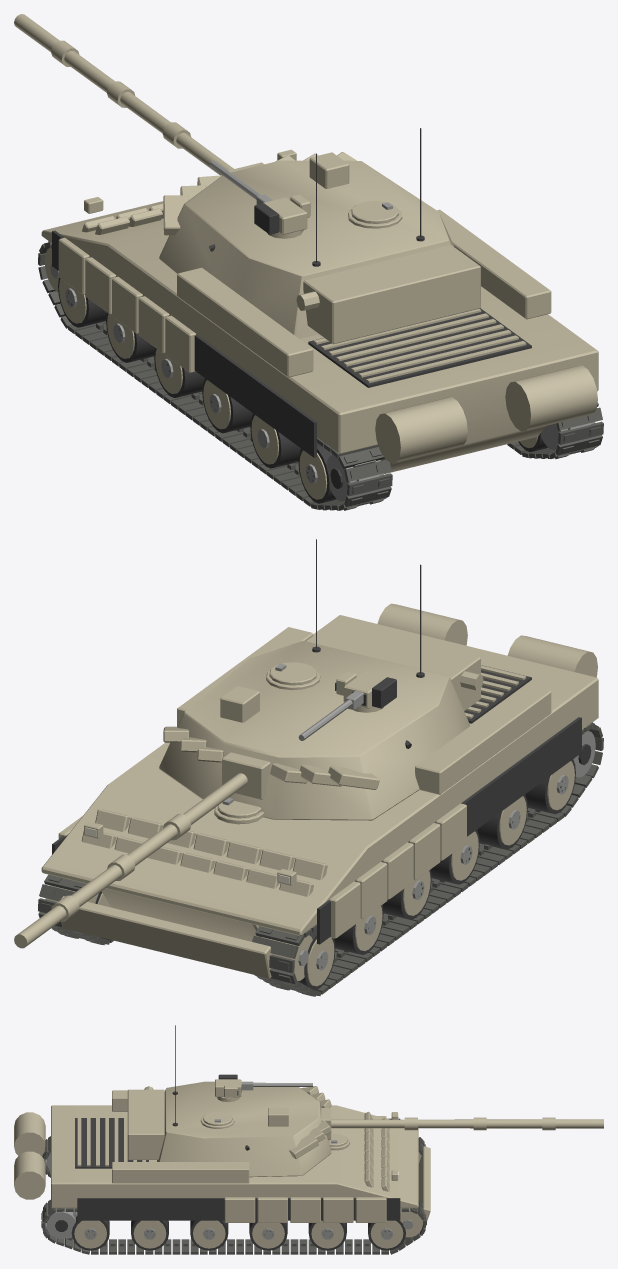
Rendered from rus_mbt_90m.glb.
3 renders of one model, top to bottom at view 1: azimuth 30°, elevation 25°; view 2: azimuth 150°, elevation 25°; view 3: azimuth 270°, elevation 25°, orthographic. The views are drawn at different scales.
Visible parts, largest first — view 1: body, turret, barrel; view 2: body, turret, barrel; view 3: body, turret, barrel.
Boxes of the visible parts, x1=… form: body: x1=38, y1=149, x2=603, y2=510; turret: x1=159, y1=128, x2=480, y2=344; barrel: x1=14, y1=14, x2=263, y2=175; body: x1=38, y1=603, x2=603, y2=996; turret: x1=159, y1=539, x2=483, y2=820; barrel: x1=14, y1=752, x2=270, y2=948; body: x1=14, y1=1090, x2=430, y2=1254; turret: x1=127, y1=1025, x2=331, y2=1177; barrel: x1=321, y1=1108, x2=603, y2=1139.
Bounding box in the file's own units: 3.74 × 3.67 × 11.15.
